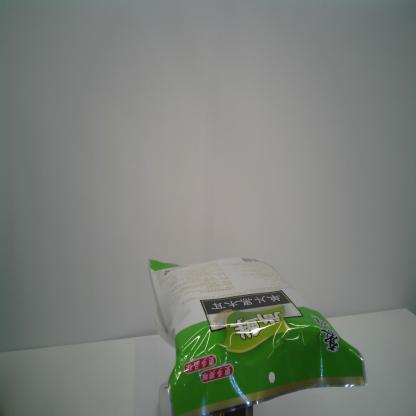Dried Food: (148, 255, 368, 416)
